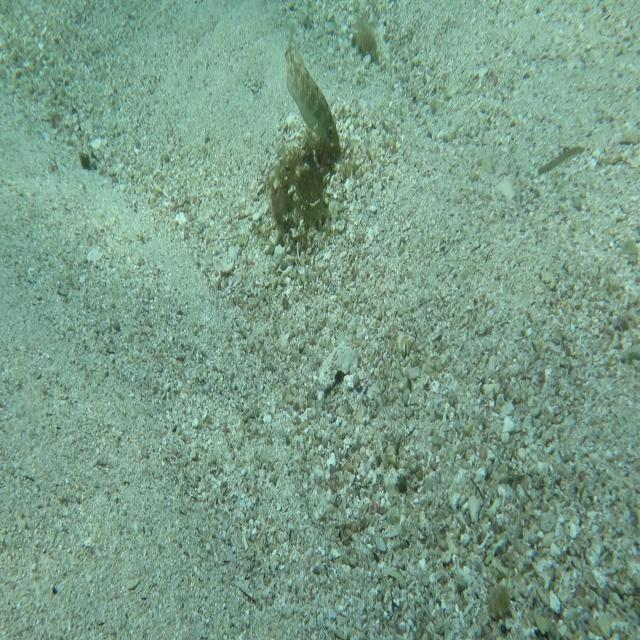NIP_IN: (283, 21, 342, 152)
core_nest: (298, 149, 332, 184)
nest: (268, 121, 350, 255)
vegetation: (352, 11, 381, 72), (537, 144, 586, 177), (78, 146, 92, 174)
